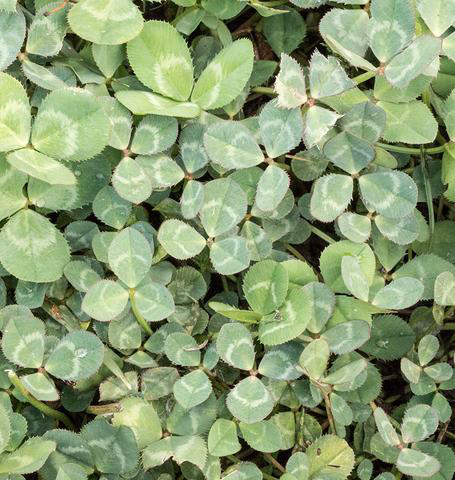clover: (113, 19, 255, 120), (1, 71, 112, 185), (202, 95, 304, 211), (322, 1, 443, 89), (308, 129, 419, 223), (156, 175, 251, 276), (79, 225, 175, 322), (215, 321, 305, 423), (1, 314, 104, 402), (209, 258, 312, 345), (272, 47, 356, 149), (373, 403, 442, 479), (400, 333, 453, 384)
